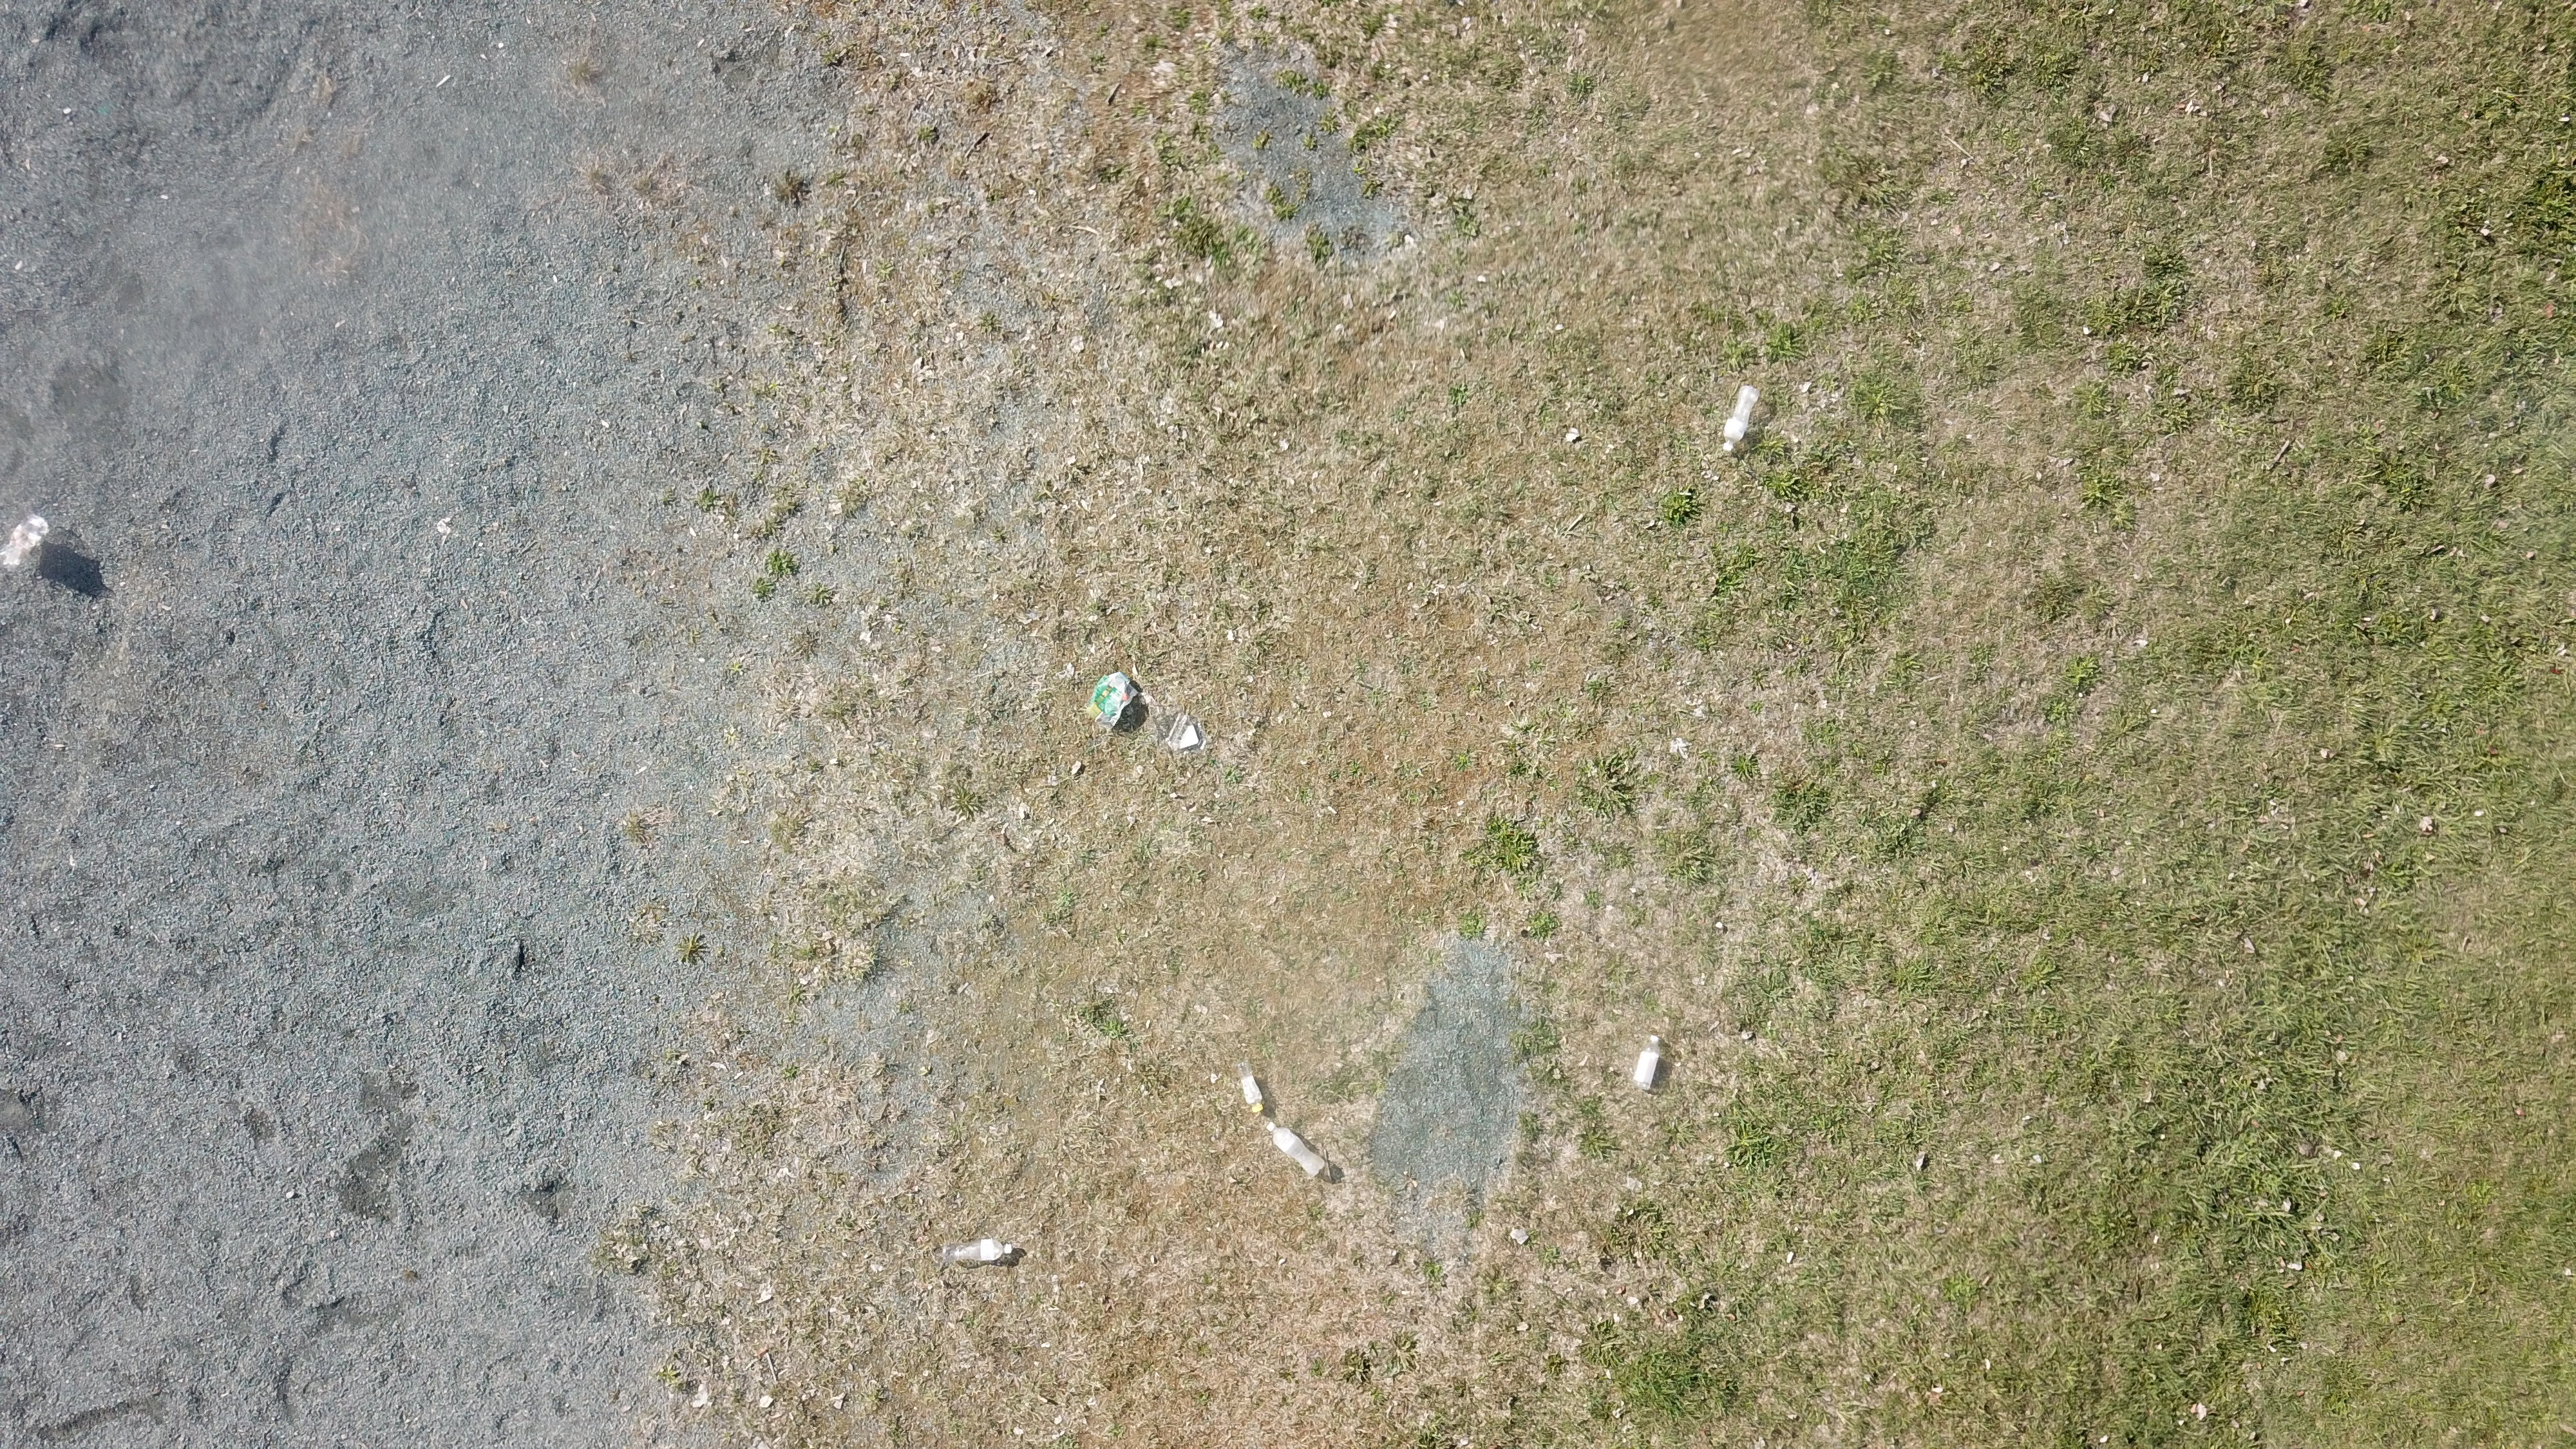Plastic: (0, 511, 48, 580), (1146, 701, 1212, 750), (1086, 671, 1138, 732)
PlasticBottle: (1267, 1122, 1325, 1177), (1721, 384, 1759, 449), (941, 1238, 1019, 1265), (1235, 1058, 1265, 1113), (1631, 1033, 1660, 1090)
